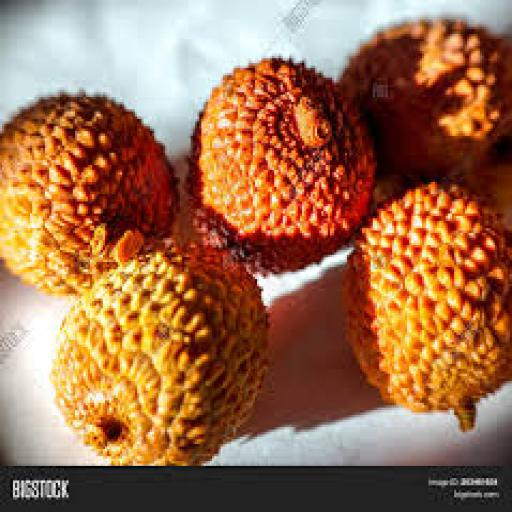lychee: (49, 245, 272, 471), (345, 184, 512, 437), (186, 58, 375, 277), (2, 92, 180, 294), (340, 17, 510, 172)
